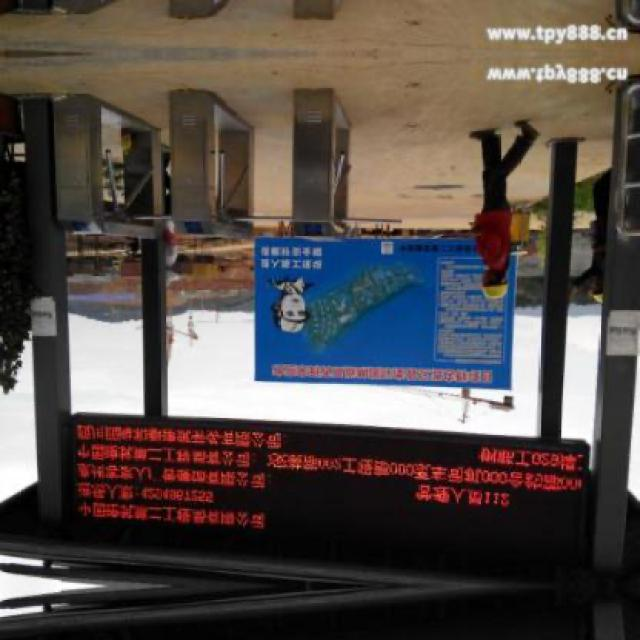con casco: (474, 262, 516, 298)
